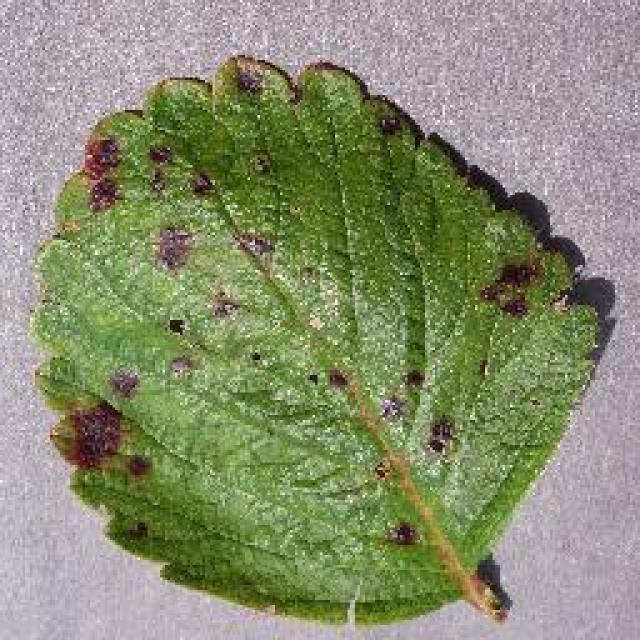Strawberry leaf scorch: (48, 122, 525, 490)
